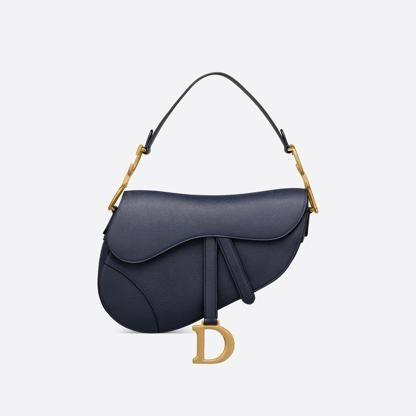not trash: (97, 70, 320, 363)
